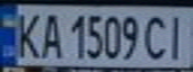0: (103, 11, 124, 61)
1: (63, 10, 84, 60)
5: (84, 10, 106, 60)
9: (121, 11, 145, 61)
A: (36, 10, 63, 60)
C: (139, 11, 172, 61)
I: (163, 11, 193, 61)
K: (9, 8, 45, 60)
